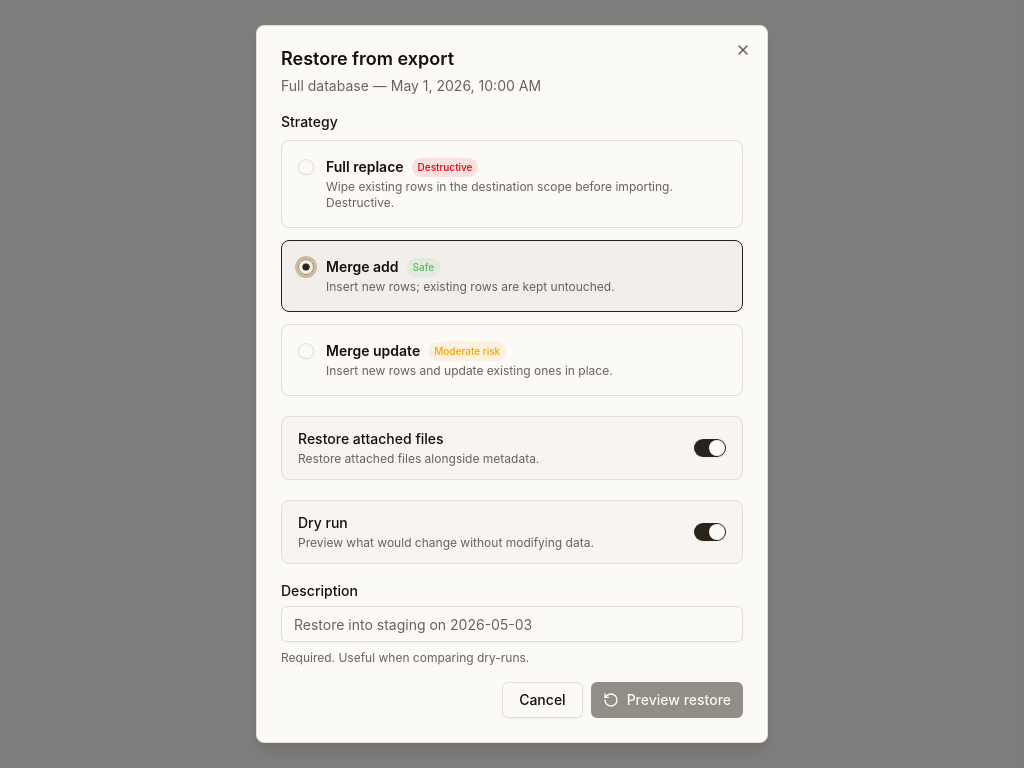
Test: <RestoreDialog /> › flips submit copy based on the dry-run switch
The width and height of the screenshot is (1024, 768).
Expected: the button with test id "restore-dialog-submit" reads "Preview restore", [591,682,743,718]
Step 1. Click the switch with test id "restore-dry-run" → (710, 532), box [694,523,726,541]
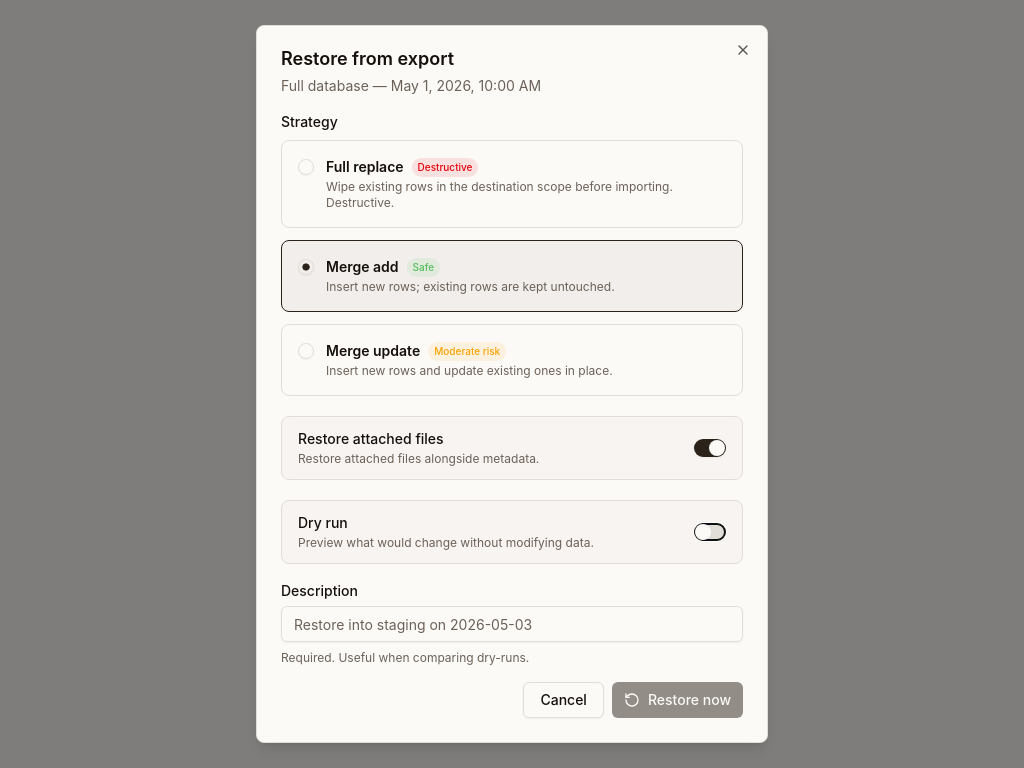
Expected: the button with test id "restore-dialog-submit" reads "Restore now", [612,682,743,718]
